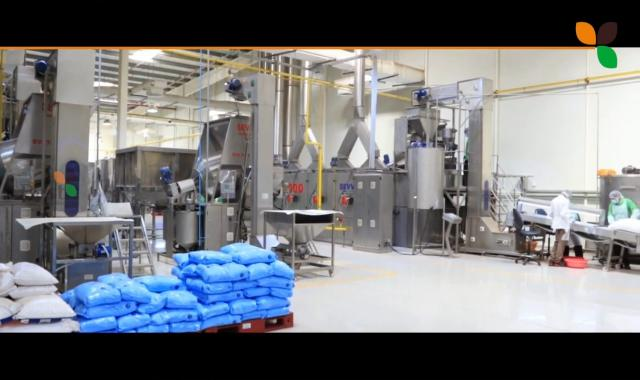hairnet: (610, 189, 622, 202), (564, 189, 570, 195)
